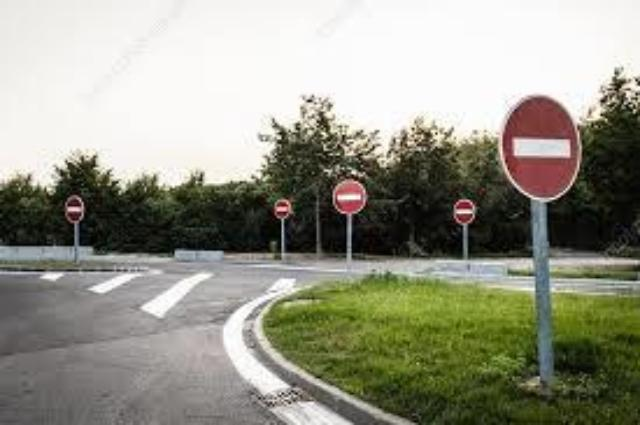B2: (500, 96, 576, 206), (337, 180, 365, 216)
